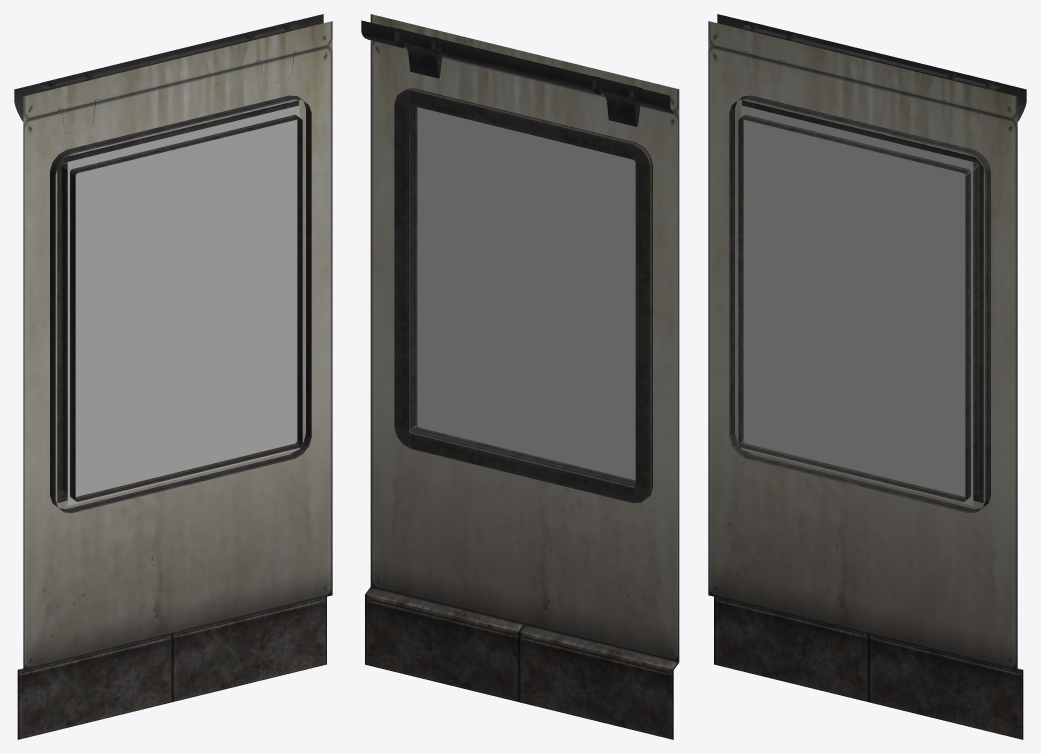
File: lab_window_small_elevated.dae
The picture shows the model from 3 angles, left to right: view 1: azimuth 30°, elevation 25°; view 2: azimuth 150°, elevation 25°; view 3: azimuth 330°, elevation 25°; orthographic projection.
Parts seen in each view (by area): view 1: lab_window_small_elvated, glass__3_; view 2: lab_window_small_elvated, glass__3_; view 3: lab_window_small_elvated, glass__3_.
Boxes of the visible parts, left/top/right/bottom form: lab_window_small_elvated: left=14, top=14, right=332, bottom=739; glass__3_: left=67, top=105, right=299, bottom=505; lab_window_small_elvated: left=361, top=14, right=679, bottom=739; glass__3_: left=417, top=107, right=635, bottom=480; lab_window_small_elvated: left=708, top=14, right=1026, bottom=739; glass__3_: left=741, top=105, right=973, bottom=505.
Size of the model in its own units: 2 by 4 by 0.2276.
